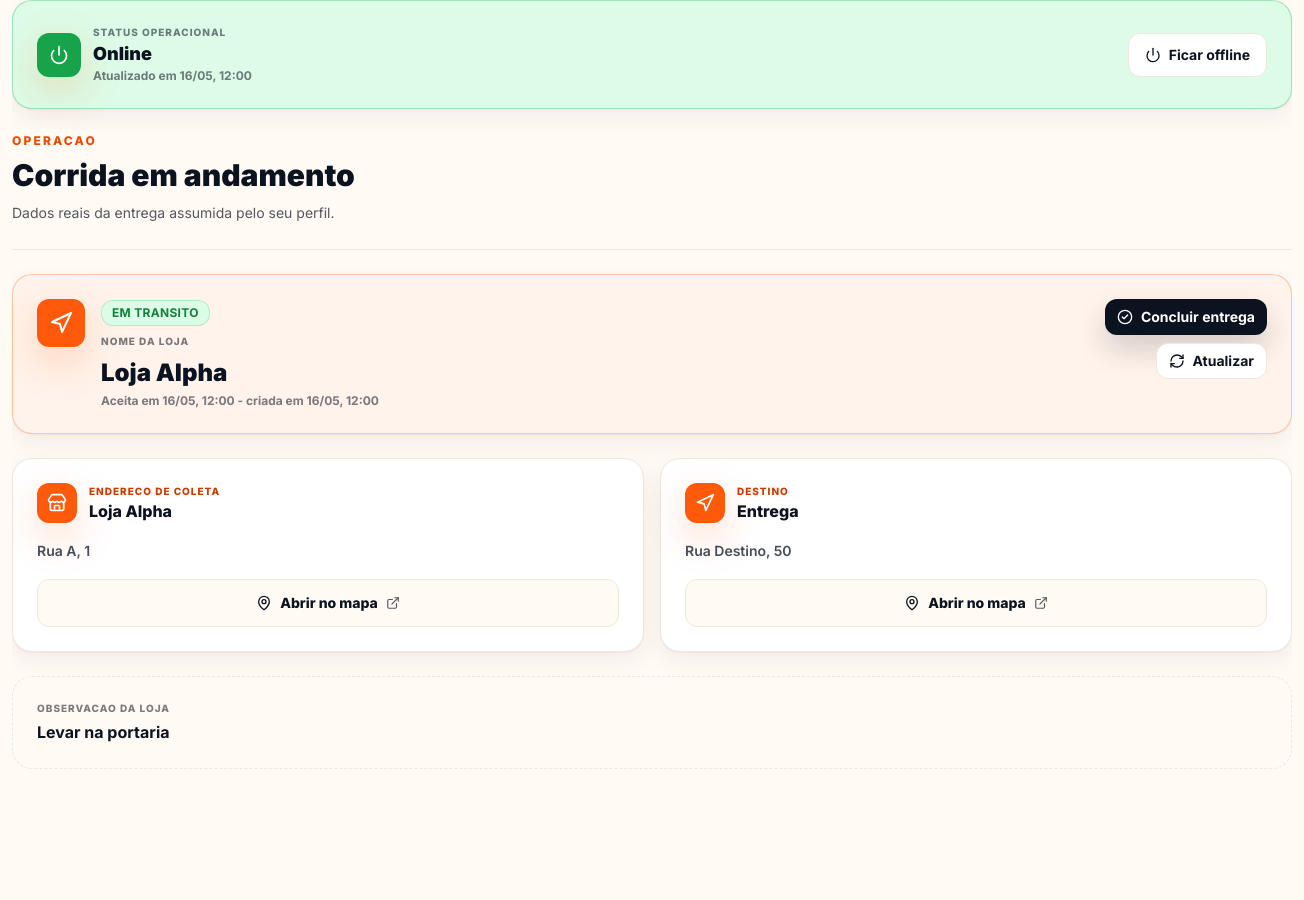
Test: MotoboyRealFlow › removes the active delivery after concluding it
The image size is (1304, 900).
Click the button "Concluir entrega" at (1186, 317), box [1105, 299, 1267, 335]
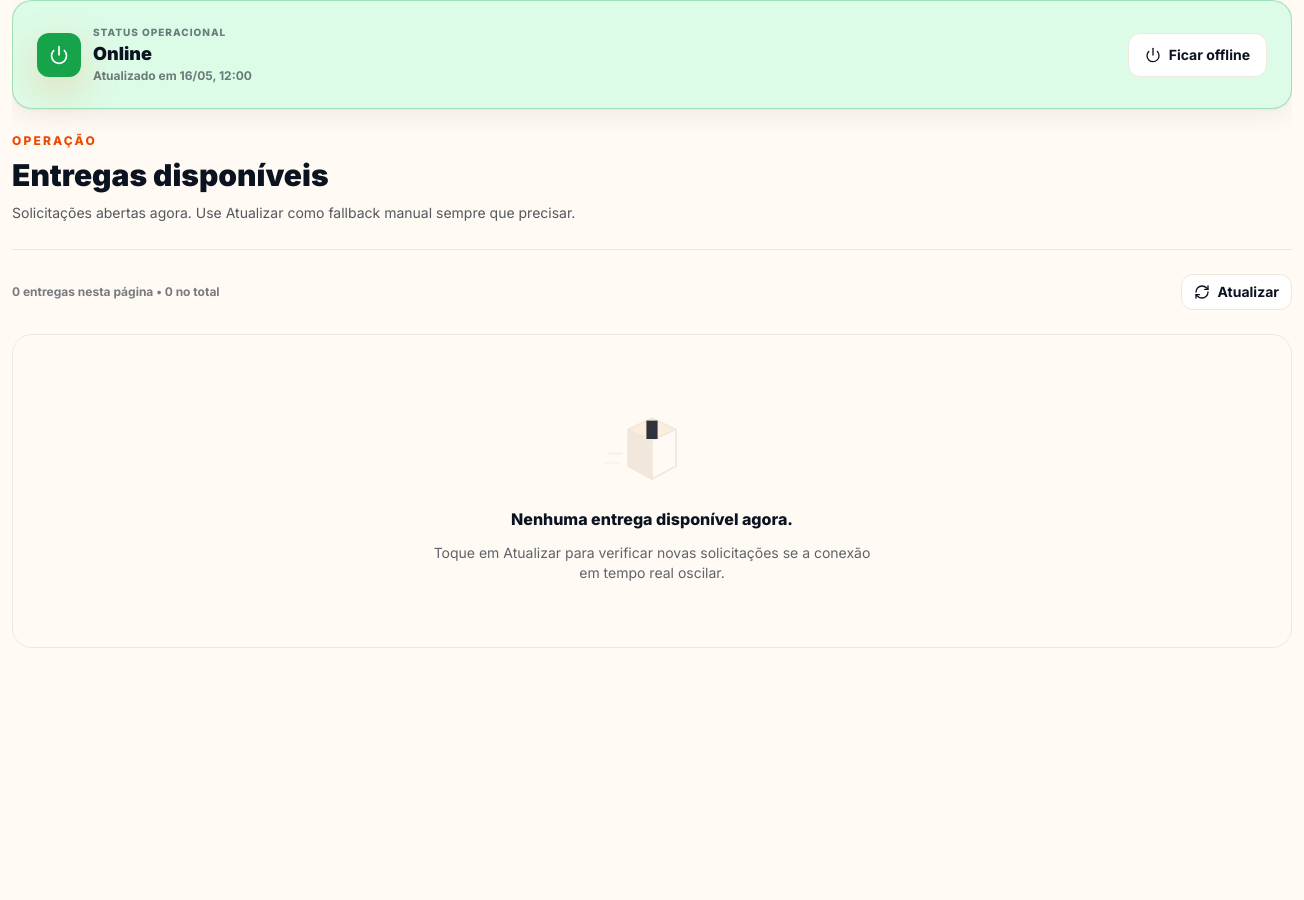
Now the text "Nenhuma entrega disponível agora." is shown, box [511, 507, 793, 531]
